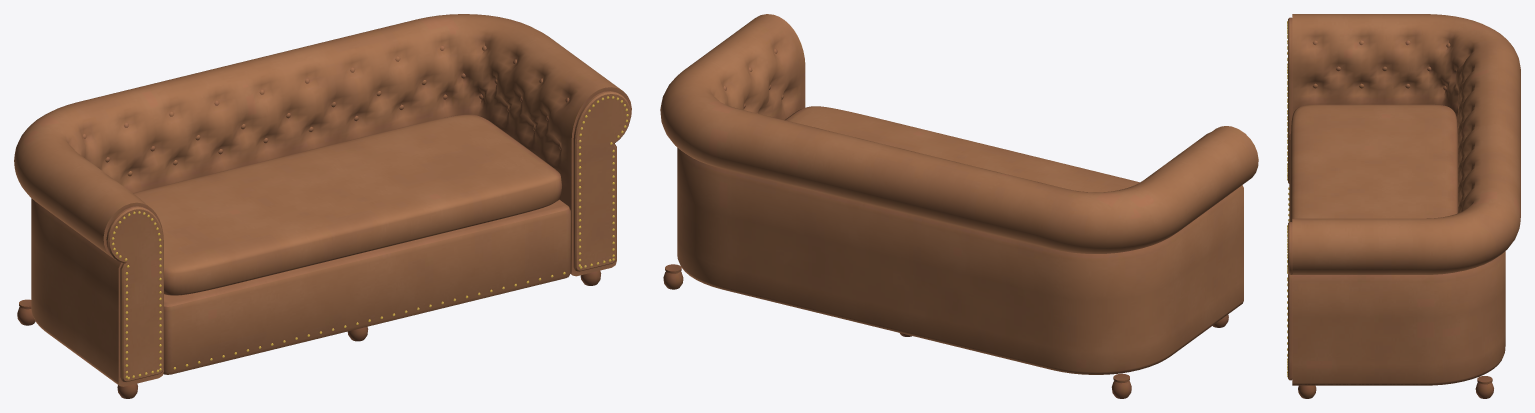
File: chesterfield-sofa.glb
3 views of the same model, side by side, from view 1: azimuth 30°, elevation 25°; view 2: azimuth 150°, elevation 25°; view 3: azimuth 270°, elevation 25° (orthographic). The views are drawn at different scales.
Visible parts, largest first — view 1: chesterfield-sofa_body; view 2: chesterfield-sofa_body; view 3: chesterfield-sofa_body.
Boxes of the visible parts, left/top/right/bottom form: chesterfield-sofa_body: left=14, top=14, right=631, bottom=398; chesterfield-sofa_body: left=660, top=14, right=1258, bottom=398; chesterfield-sofa_body: left=1287, top=14, right=1520, bottom=398.
Bounding box in the file's own units: 2.1 × 0.76 × 0.9081.
Materials: 1 (1 with a texture image).
